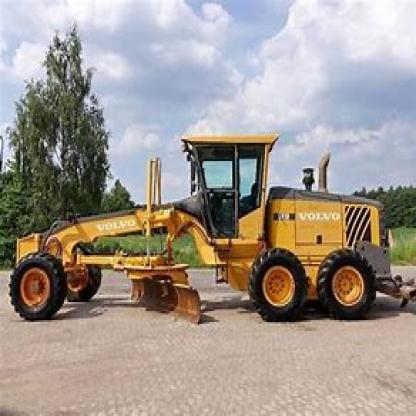bull_dozer/loader/grader: (13, 125, 409, 329)
